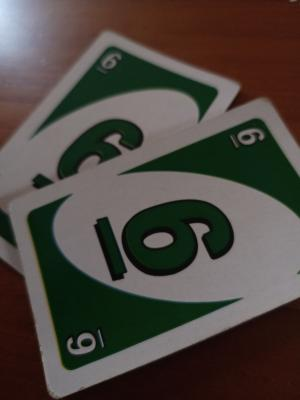green: (47, 202, 279, 306), (71, 85, 202, 123)
num_6: (54, 321, 111, 362), (227, 120, 267, 153), (97, 51, 124, 76)
